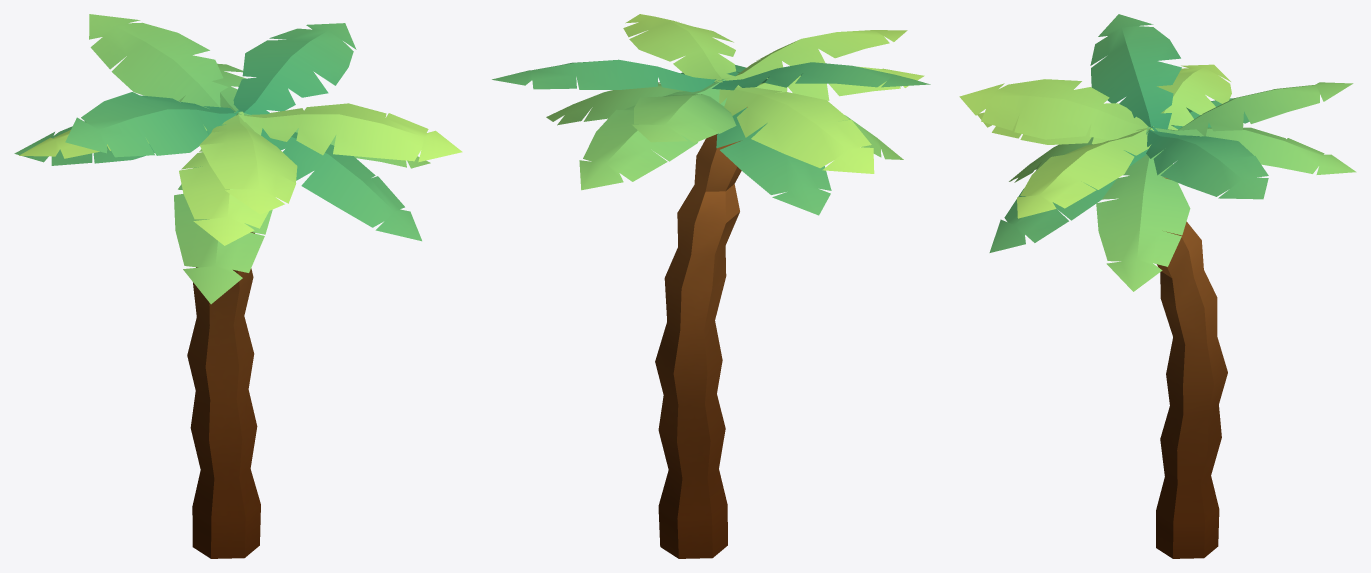
File: Palm_tree.glb
3 renders of one model, left to right at view 1: azimuth 30°, elevation 25°; view 2: azimuth 150°, elevation 25°; view 3: azimuth 270°, elevation 25°, orthographic. The views are drawn at different scales.
Visible parts, largest first — view 1: Palm tree; view 2: Palm tree; view 3: Palm tree.
Part boxes in pixels (x1,y1,x2,y2): Palm tree: (14, 14, 462, 558); Palm tree: (492, 14, 930, 558); Palm tree: (959, 14, 1356, 558).
Size of what is drawn, in the model's own units: 3.42 by 4.23 by 3.4.
1 material, 1 textured.
